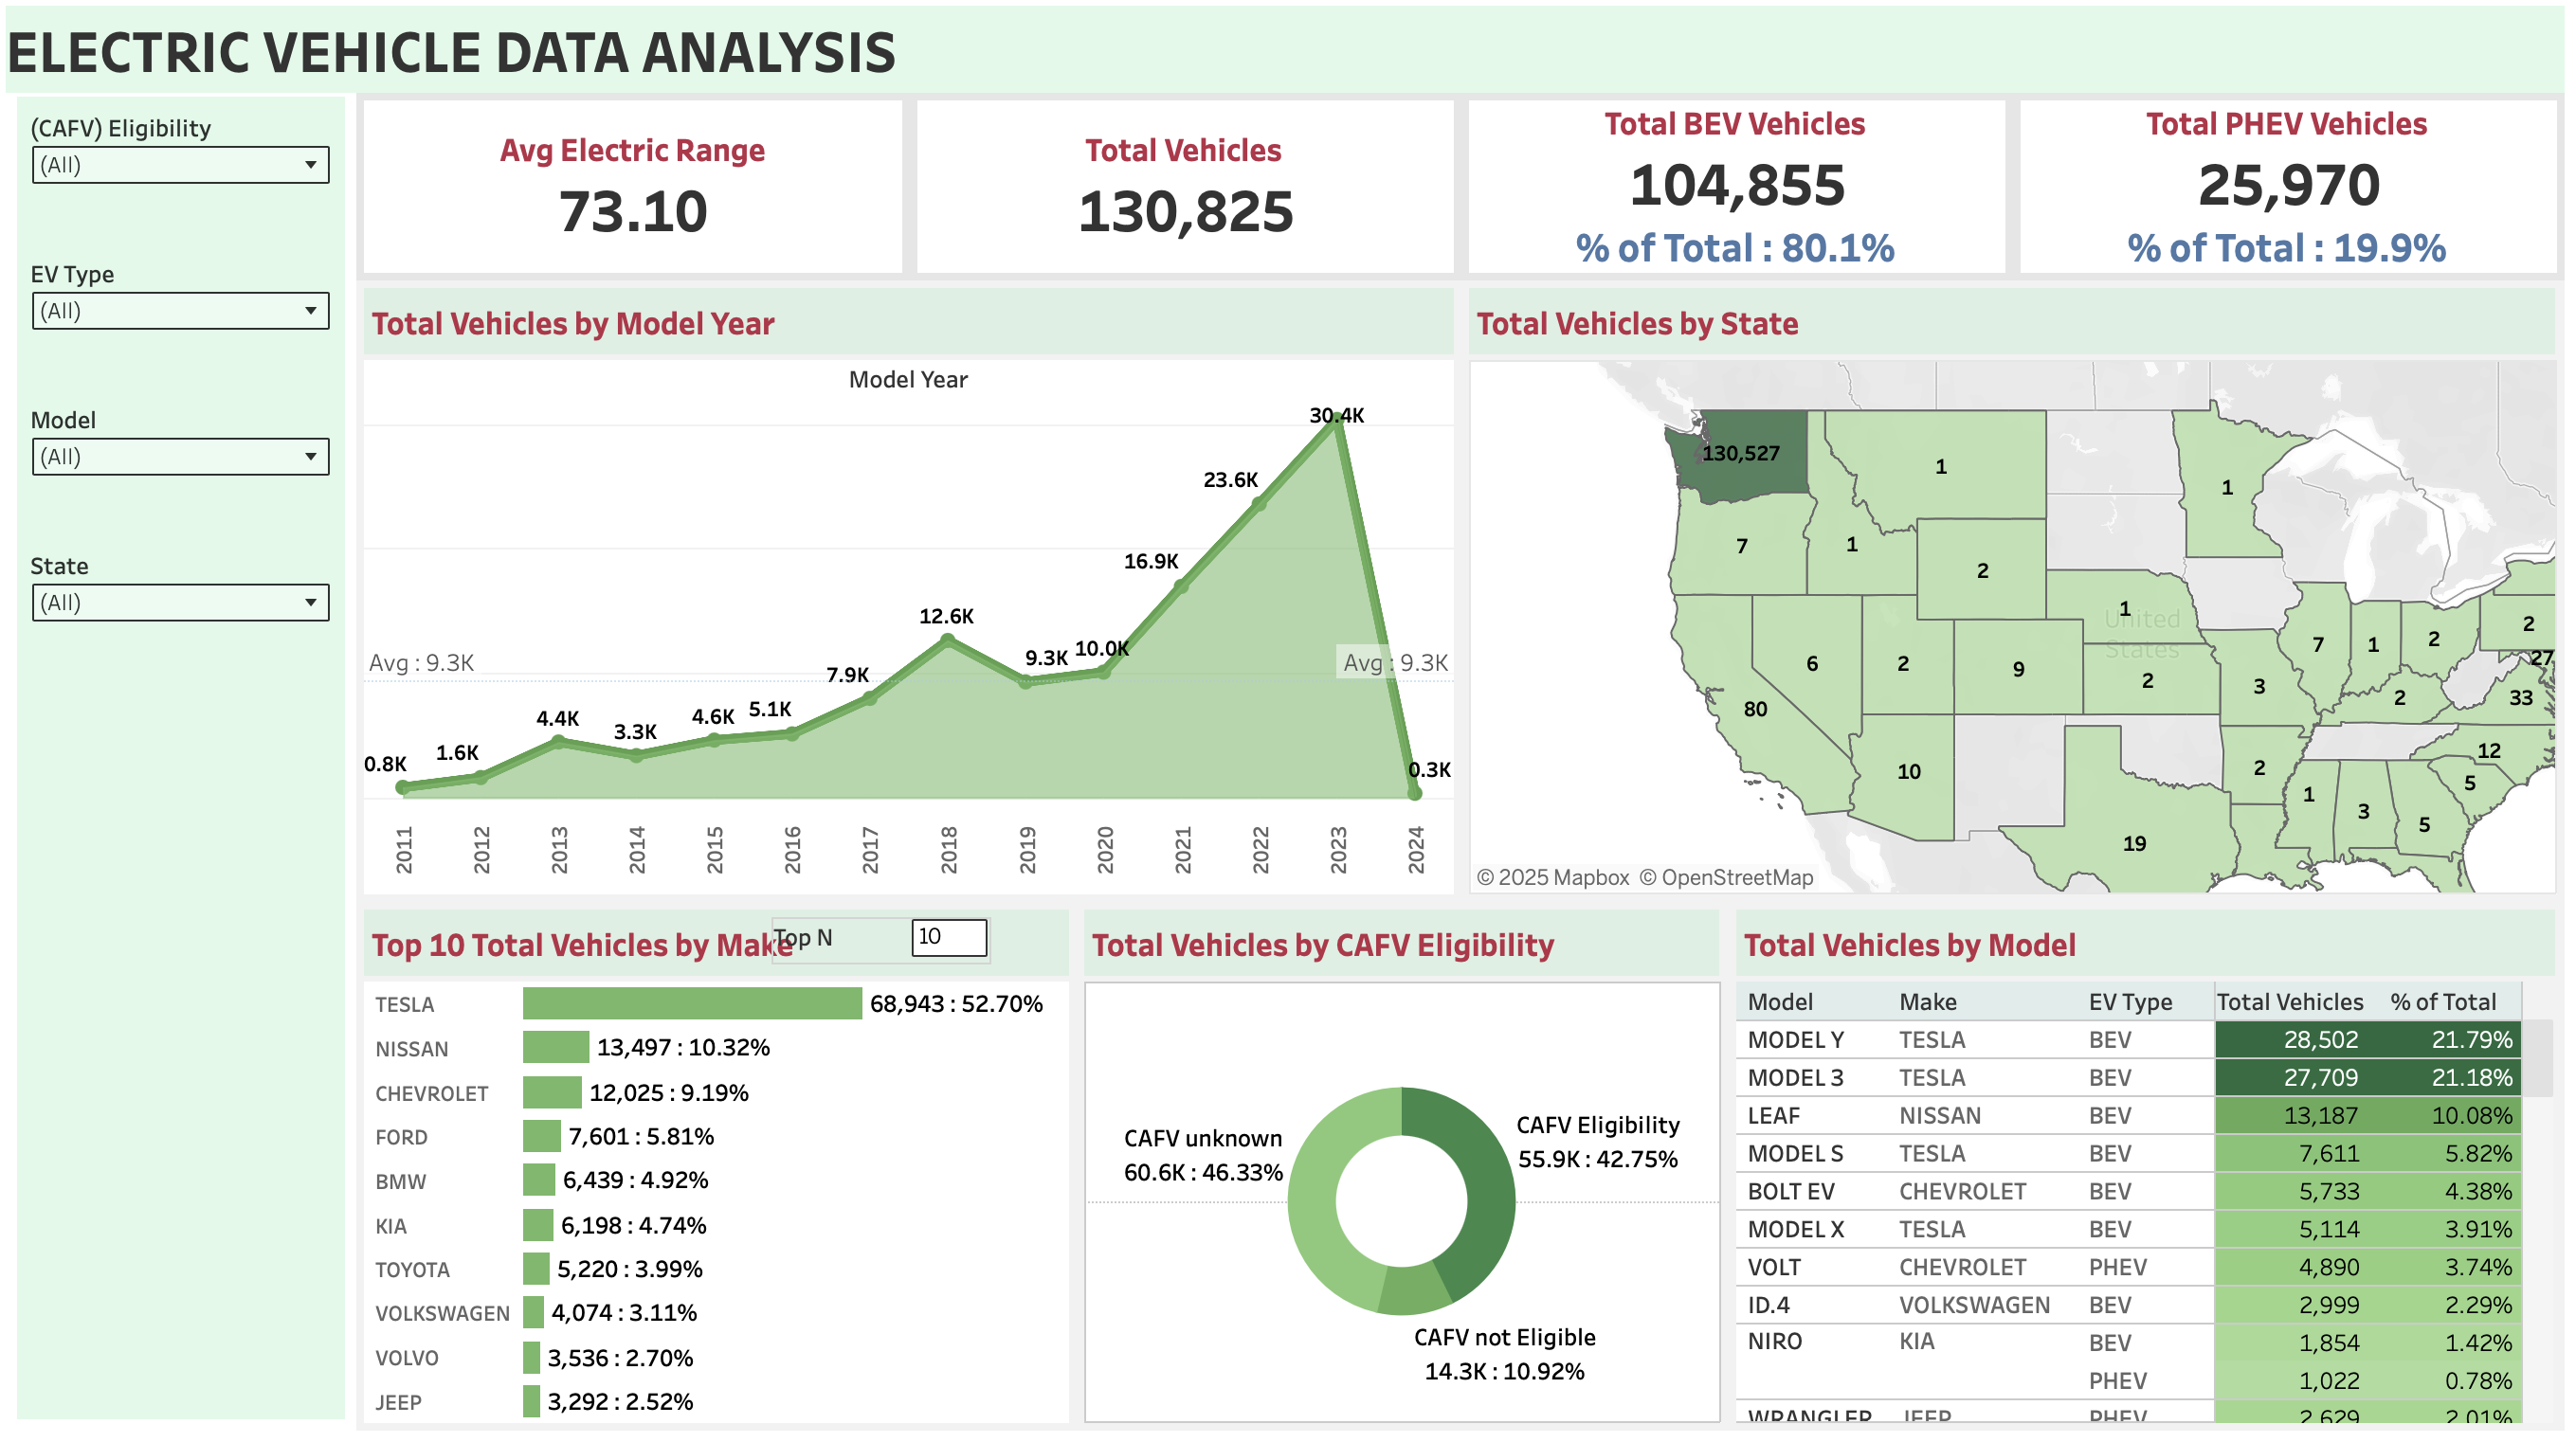

Layout of this report page (visuals, bound fields, positions):
{"tool":"tableau","page":{"name":"Dashboard 1","canvas":[1366,768],"ordinal":0},"visuals":[{"type":"title","box":[8,8,1350,46]},{"type":"worksheet","title":"Avg Electric Range ","mark":"Automatic","box":[193,54,292,99]},{"type":"worksheet","title":"Total Vehicles","mark":"Automatic","box":[485,54,291,99]},{"type":"worksheet","title":"Total BEV Vehicles","mark":"Automatic","box":[776,54,291,99]},{"type":"worksheet","title":"Total PHEV Vehicles ","mark":"Automatic","box":[1067,54,291,99]},{"type":"filter","title":"Total Vehicles by Model Year","param":"[federated.0wdp4og1r9d1lh1c27wob0char2v].[none:Clean Alternative Fuel Vehicle (C","box":[17,59,167,77]},{"type":"filter","title":"Total Vehicles by Model Year","param":"[federated.0wdp4og1r9d1lh1c27wob0char2v].[none:Electric Vehicle Type:nk]","box":[17,136,167,77]},{"type":"worksheet","title":"Total Vehicles by Model Year","mark":"Area","rows":["Calculation_72128016918417408","Calculation_72128016918417408"],"cols":["Model Year"],"box":[193,153,583.2,328]},{"type":"worksheet","title":"Total Vehicles by State","mark":"Multipolygon","box":[776.1,153,581.8,328]},{"type":"filter","title":"Total Vehicles by Model Year","param":"[federated.0wdp4og1r9d1lh1c27wob0char2v].[none:Model:nk]","box":[17,213,167,77]},{"type":"filter","title":"Total Vehicles by Model Year","param":"[federated.0wdp4og1r9d1lh1c27wob0char2v].[none:State:nk]","box":[17,290,167,77]},{"type":"blank","box":[17,367,167,77]},{"type":"blank","box":[17,444,167,77]},{"type":"worksheet","title":"Top 10 Vehicles by Make ","mark":"Automatic","rows":["Make"],"cols":["Calculation_72128016918417408"],"box":[193,481,380,279]},{"type":"worksheet","title":"Total Vehicles by CAFV Eligibility","mark":"Pie","rows":["Calculation_69242898934448129","Calculation_69242898934550531"],"box":[573,481,344,279]},{"type":"worksheet","title":"Total Vehicles by Model","mark":"Square","rows":["Model","Make","Electric Vehicle Type"],"box":[917,481,441,279]},{"type":"parameter","param":"[Parameters].[Parameter 1]","box":[412,489,116,25]},{"type":"blank","box":[17,521,167,77]},{"type":"blank","box":[17,598,167,77]},{"type":"blank","box":[17,675,167,76]}]}

Visuals, with their boxes in screenshot pixels (x1, y1, x2, y2), scaled from the page's 1366x768 canvas onto the 2576x1442 screenshot:
title: <bbox>15, 15, 2561, 101</bbox>
"Avg Electric Range " worksheet: <bbox>364, 101, 915, 287</bbox>
"Total Vehicles" worksheet: <bbox>915, 101, 1463, 287</bbox>
"Total BEV Vehicles" worksheet: <bbox>1463, 101, 2012, 287</bbox>
"Total PHEV Vehicles " worksheet: <bbox>2012, 101, 2561, 287</bbox>
"Total Vehicles by Model Year" filter: <bbox>32, 111, 347, 256</bbox>
"Total Vehicles by Model Year" filter: <bbox>32, 256, 347, 400</bbox>
"Total Vehicles by Model Year" worksheet (Area marks): <bbox>364, 287, 1463, 903</bbox>
"Total Vehicles by State" worksheet (Multipolygon marks): <bbox>1463, 287, 2561, 903</bbox>
"Total Vehicles by Model Year" filter: <bbox>32, 400, 347, 545</bbox>
"Total Vehicles by Model Year" filter: <bbox>32, 545, 347, 689</bbox>
blank: <bbox>32, 689, 347, 834</bbox>
blank: <bbox>32, 834, 347, 979</bbox>
"Top 10 Vehicles by Make " worksheet: <bbox>364, 903, 1080, 1427</bbox>
"Total Vehicles by CAFV Eligibility" worksheet (Pie marks): <bbox>1080, 903, 1730, 1427</bbox>
"Total Vehicles by Model" worksheet (Square marks): <bbox>1730, 903, 2561, 1427</bbox>
parameter: <bbox>777, 918, 996, 965</bbox>
blank: <bbox>32, 979, 347, 1123</bbox>
blank: <bbox>32, 1123, 347, 1268</bbox>
blank: <bbox>32, 1268, 347, 1410</bbox>
